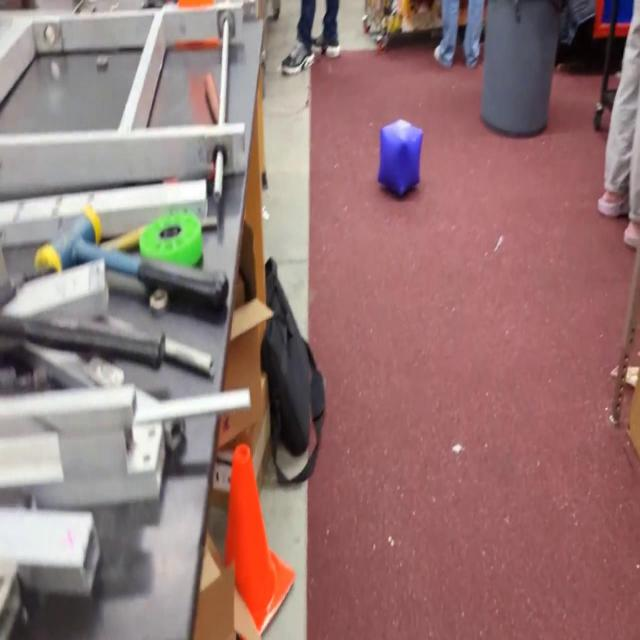frc_cube: (376, 118, 426, 196)
